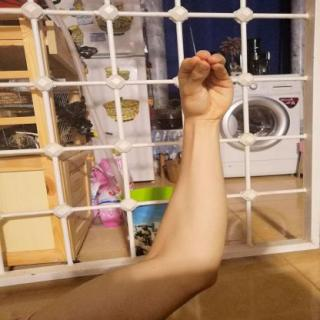HA: (165, 41, 247, 127)
